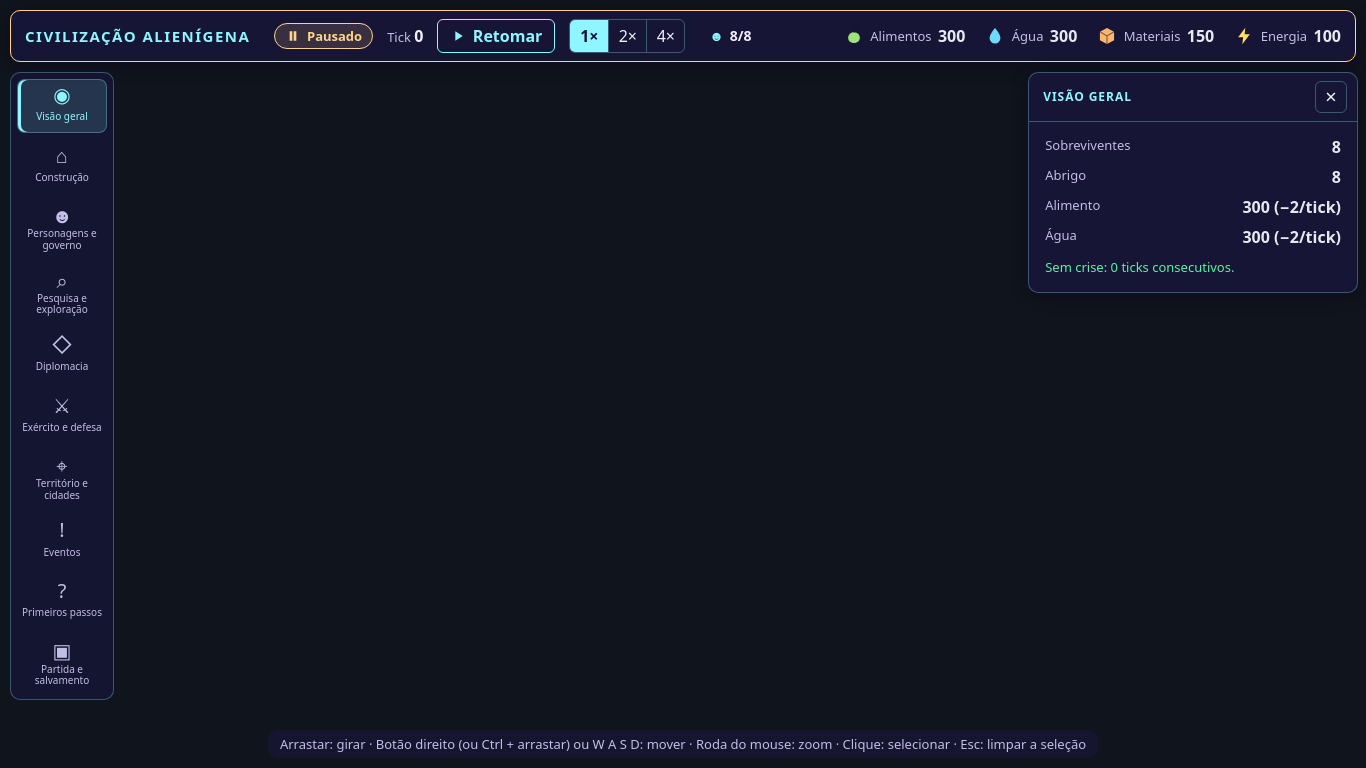
Test: GameHUD › preserva nomeações de cargos pela seção de personagens e governo
The width and height of the screenshot is (1366, 768).
Click the button "☻ Personagens e governo" at (62, 229), box [17,199,107,258]
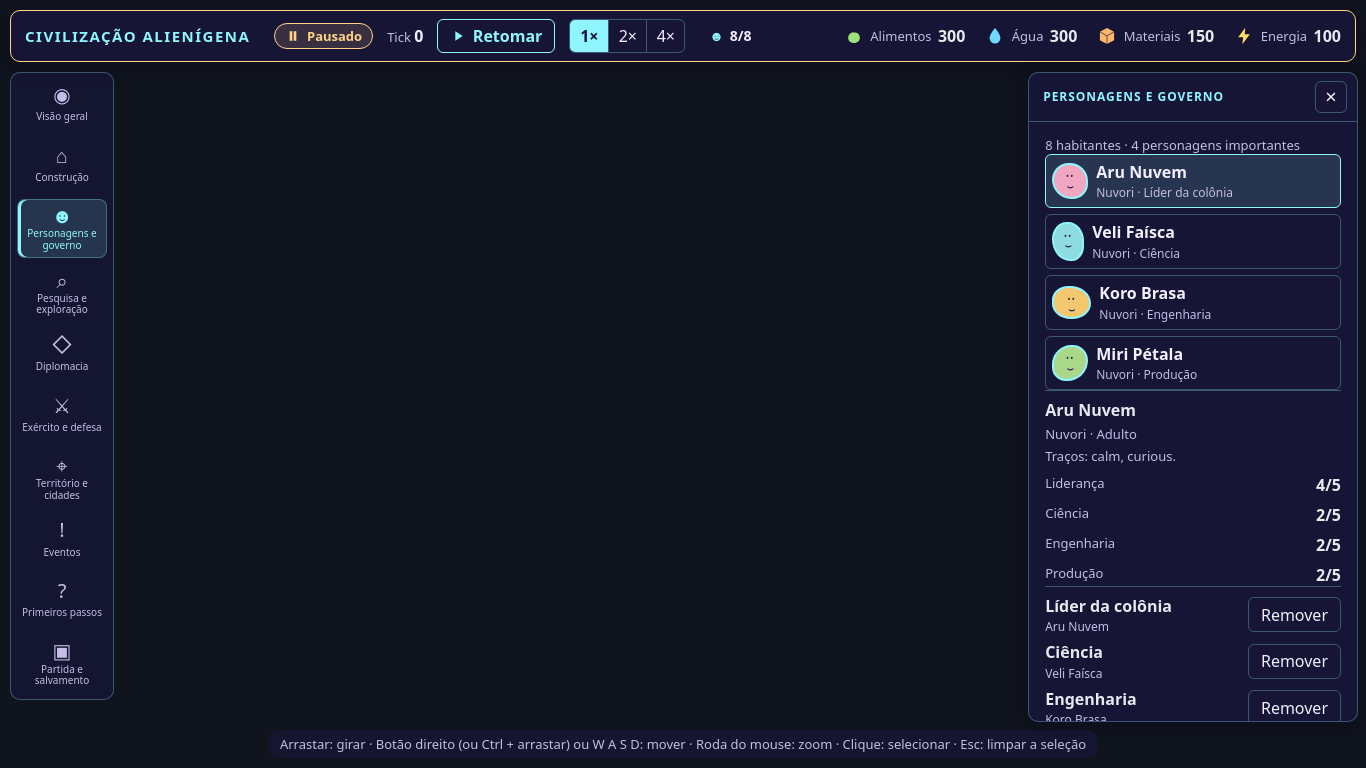
Click the button "•• ⌣ Veli Faísca Nuvori · Ciência" at (1068, 242), box [1045,214,1341,269]
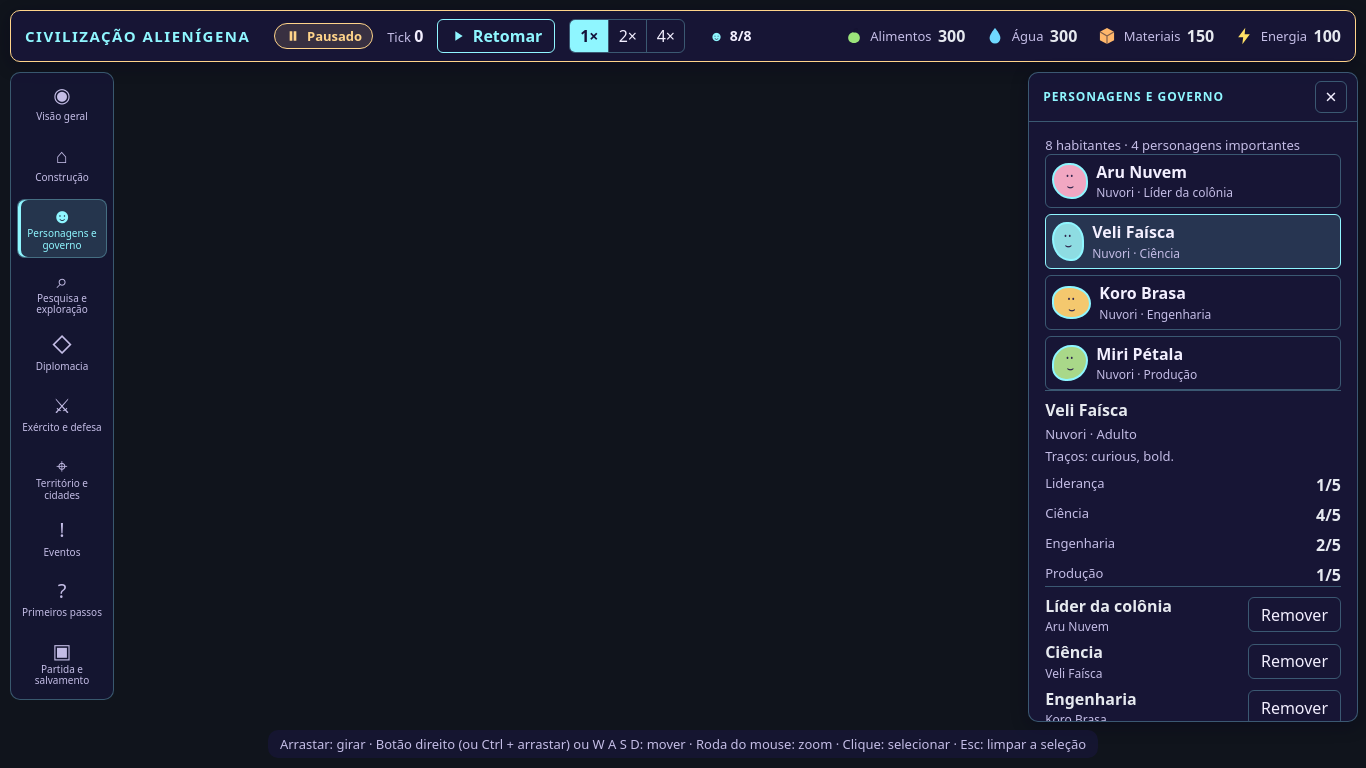
Click the button with aria-label "Remover Ciência" at (1294, 661), box [1248,644,1341,679]
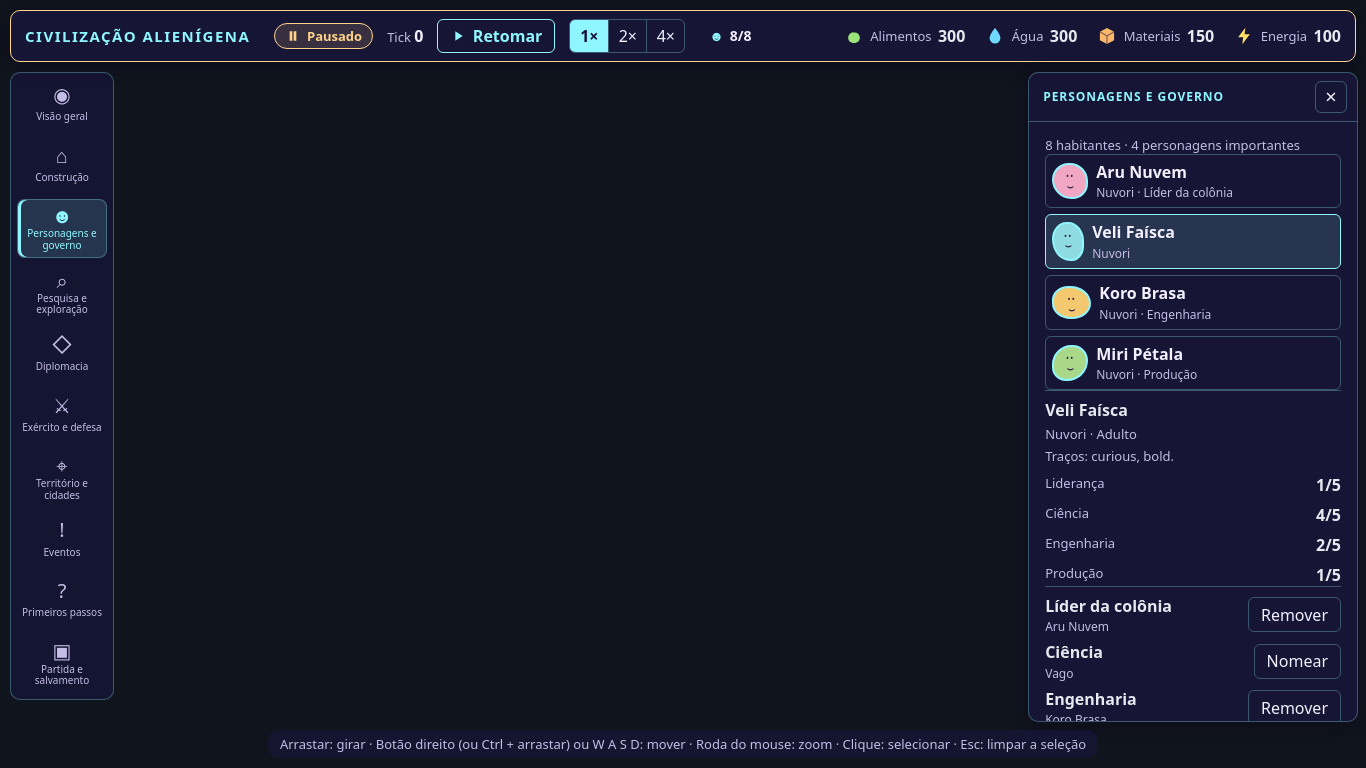
Check: the text "Vago" is shown, box [1045,665,1074,682]
Click the button with aria-label "Nomear Ciência" at (1297, 661), box [1254,644,1341,679]
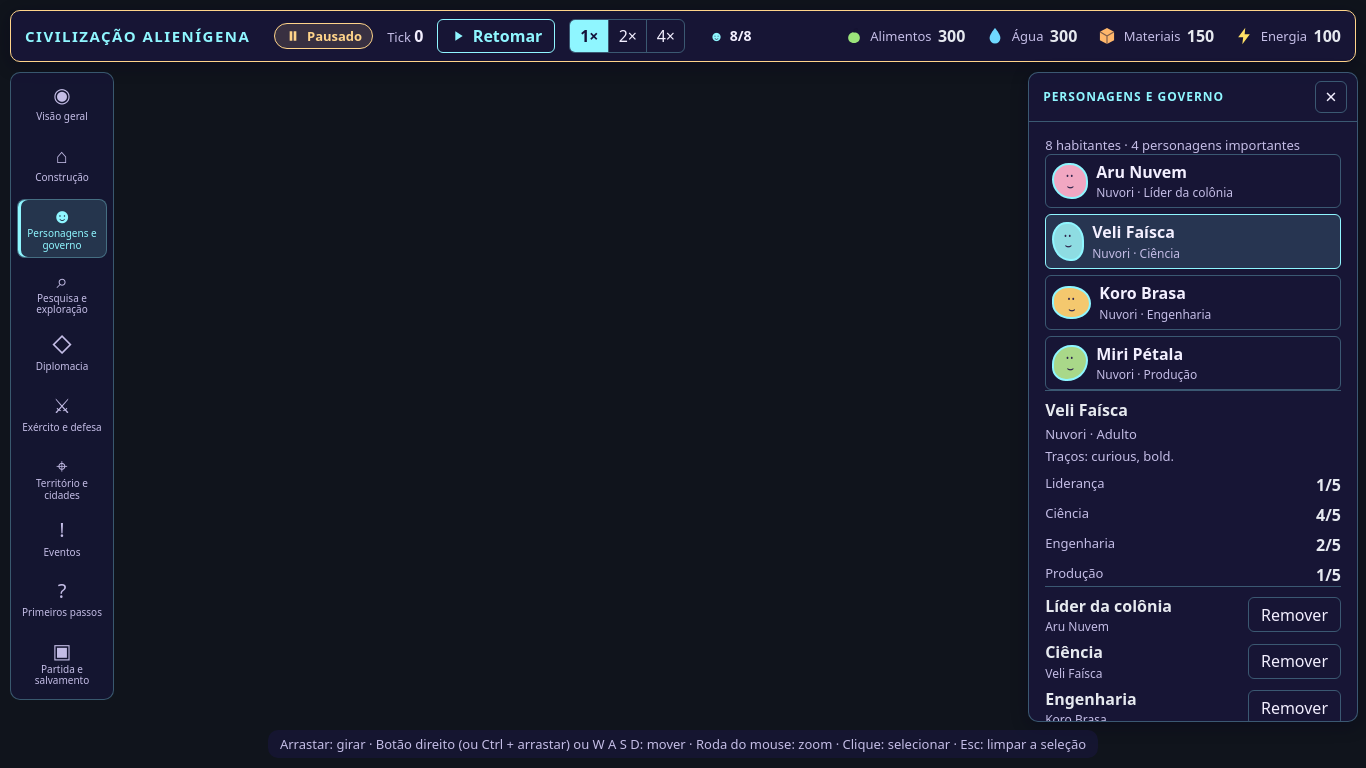
Check: the 2nd text "Veli Faísca" is shown, box [1045,665,1103,682]
